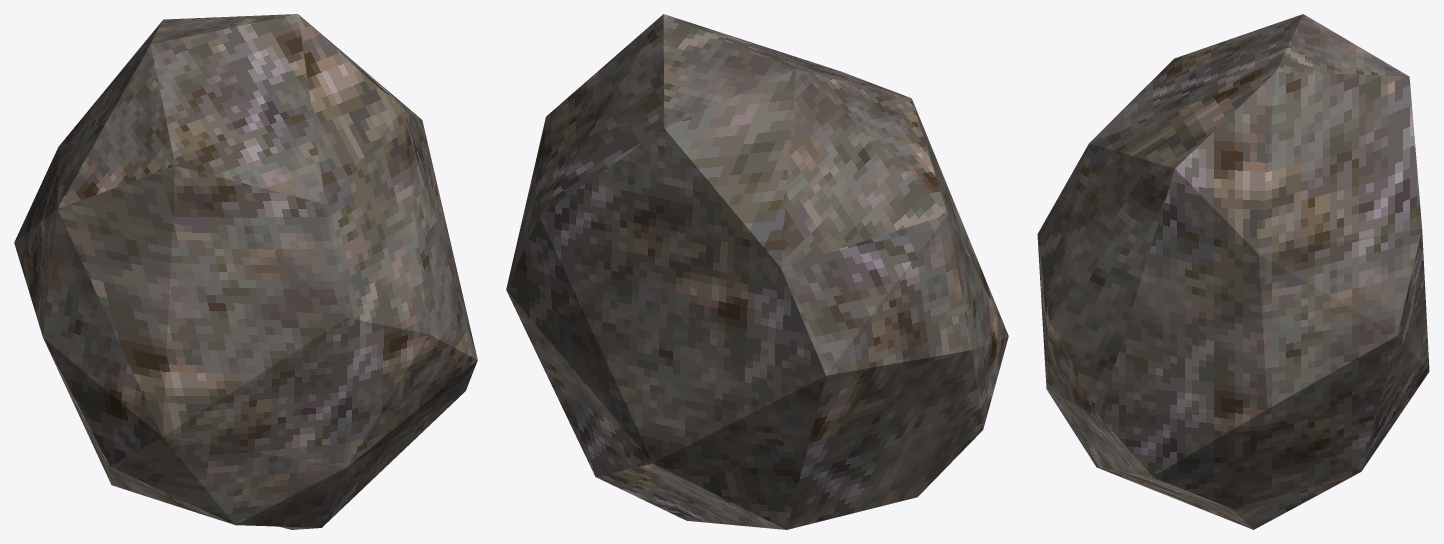
File: Small Rock.obj
3 renders of one model, left to right at view 1: azimuth 30°, elevation 25°; view 2: azimuth 150°, elevation 25°; view 3: azimuth 270°, elevation 25°, orthographic. The views are drawn at different scales.
Parts seen in each view (by area): view 1: sekikaobj_small; view 2: sekikaobj_small; view 3: sekikaobj_small.
Boxes of the visible parts, box(x1,y1,x2,y2) form: sekikaobj_small: box(14, 14, 477, 529); sekikaobj_small: box(506, 14, 1008, 529); sekikaobj_small: box(1037, 14, 1429, 529).
Size of the model in its own units: 10.31 by 11.45 by 8.78.
